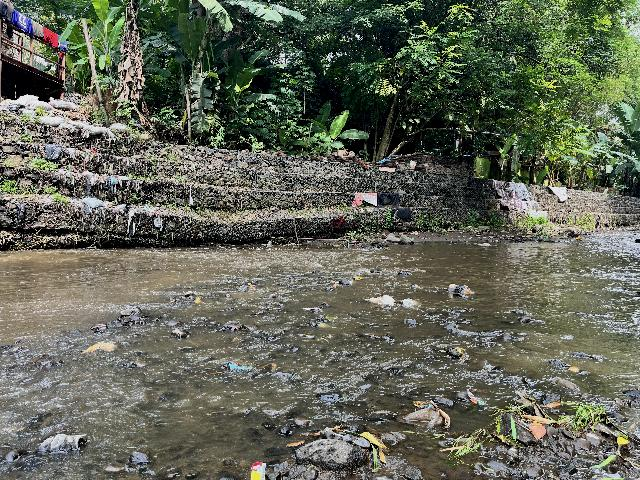Sampah Anorganik: (401, 399, 452, 430), (442, 280, 475, 301), (247, 455, 269, 480), (462, 389, 489, 409), (363, 294, 396, 307), (224, 359, 250, 371), (86, 322, 109, 333), (401, 298, 419, 308), (301, 307, 323, 314), (352, 277, 364, 281), (268, 293, 275, 297)
Sampah Organik: (499, 391, 629, 454), (286, 423, 393, 468), (434, 432, 492, 460), (76, 339, 117, 353), (307, 316, 338, 328), (450, 345, 470, 361), (258, 362, 281, 372), (229, 323, 245, 332), (566, 367, 577, 374), (246, 282, 254, 291), (194, 297, 203, 303), (332, 282, 339, 289)
